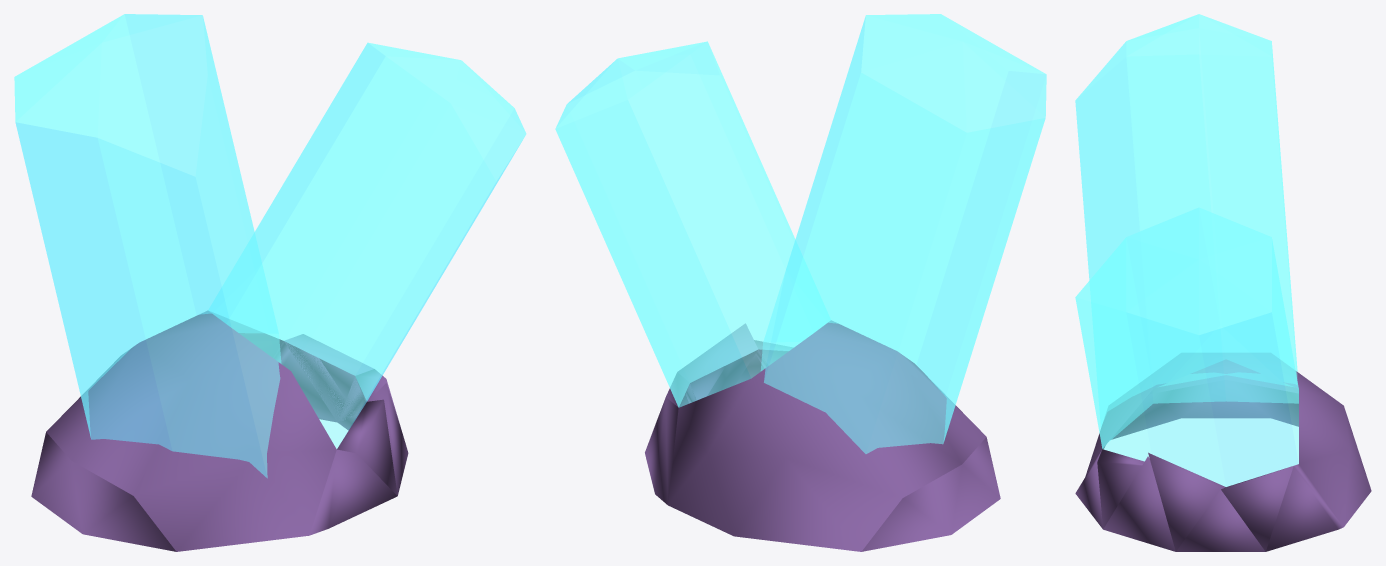
The model's file is crystal_2.fbx.
The picture shows the model from 3 angles, left to right: view 1: azimuth 30°, elevation 25°; view 2: azimuth 150°, elevation 25°; view 3: azimuth 270°, elevation 25°; orthographic projection. The views are drawn at different scales.
Parts seen in each view (by area): view 1: Icosphere.002, Icosphere, Icosphere.001; view 2: Icosphere.002, Icosphere, Icosphere.001; view 3: Icosphere.002, Icosphere.001, Icosphere.
Boxes of the visible parts, bbox=[...] form: Icosphere.002: bbox=[14, 14, 280, 478]; Icosphere: bbox=[31, 311, 408, 551]; Icosphere.001: bbox=[209, 42, 526, 448]; Icosphere.002: bbox=[761, 14, 1046, 453]; Icosphere: bbox=[645, 320, 1000, 551]; Icosphere.001: bbox=[555, 41, 830, 407]; Icosphere.002: bbox=[1075, 14, 1298, 440]; Icosphere.001: bbox=[1075, 207, 1298, 486]; Icosphere: bbox=[1075, 359, 1371, 551].
Size of the model in its own units: 346 by 319 by 204.
